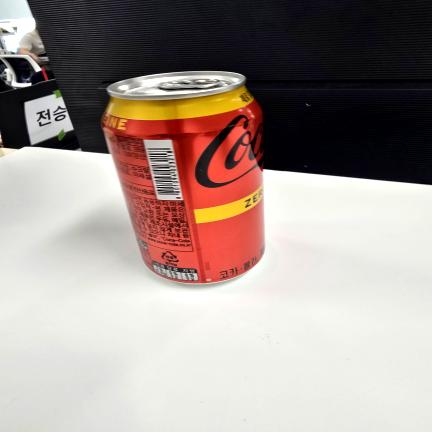can_coke_decaf: (101, 71, 265, 284)
